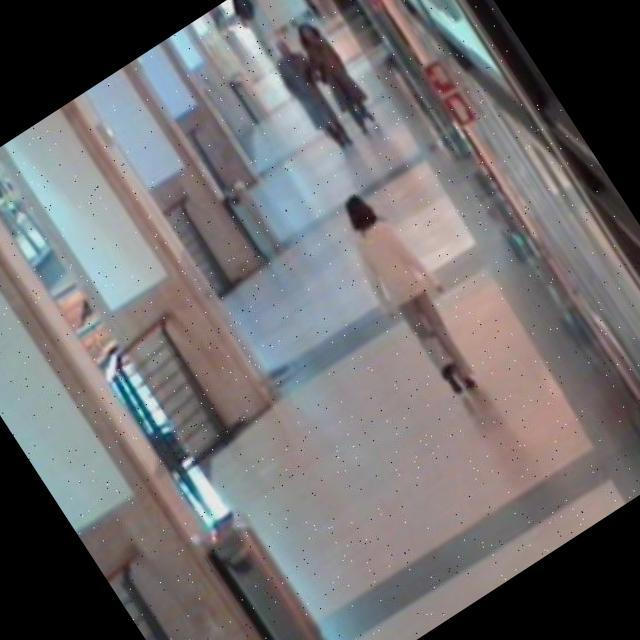person: (313, 168, 515, 416), (245, 15, 368, 174), (284, 4, 391, 142)
